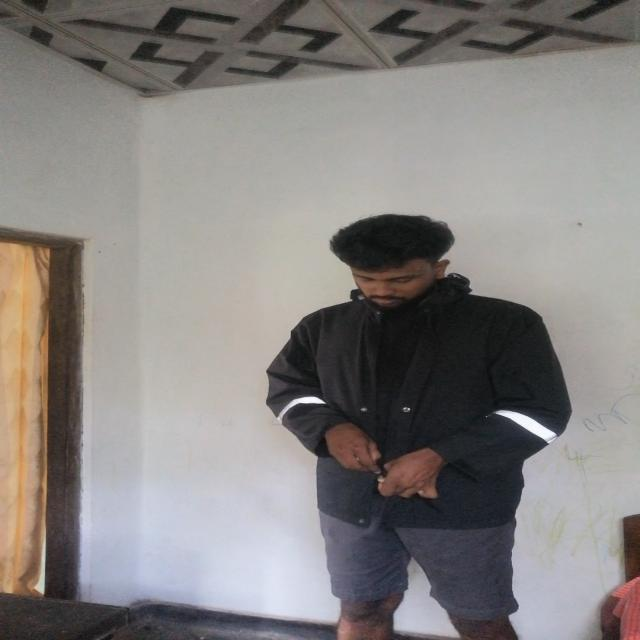Jacket_Wearer: (253, 280, 571, 527)
